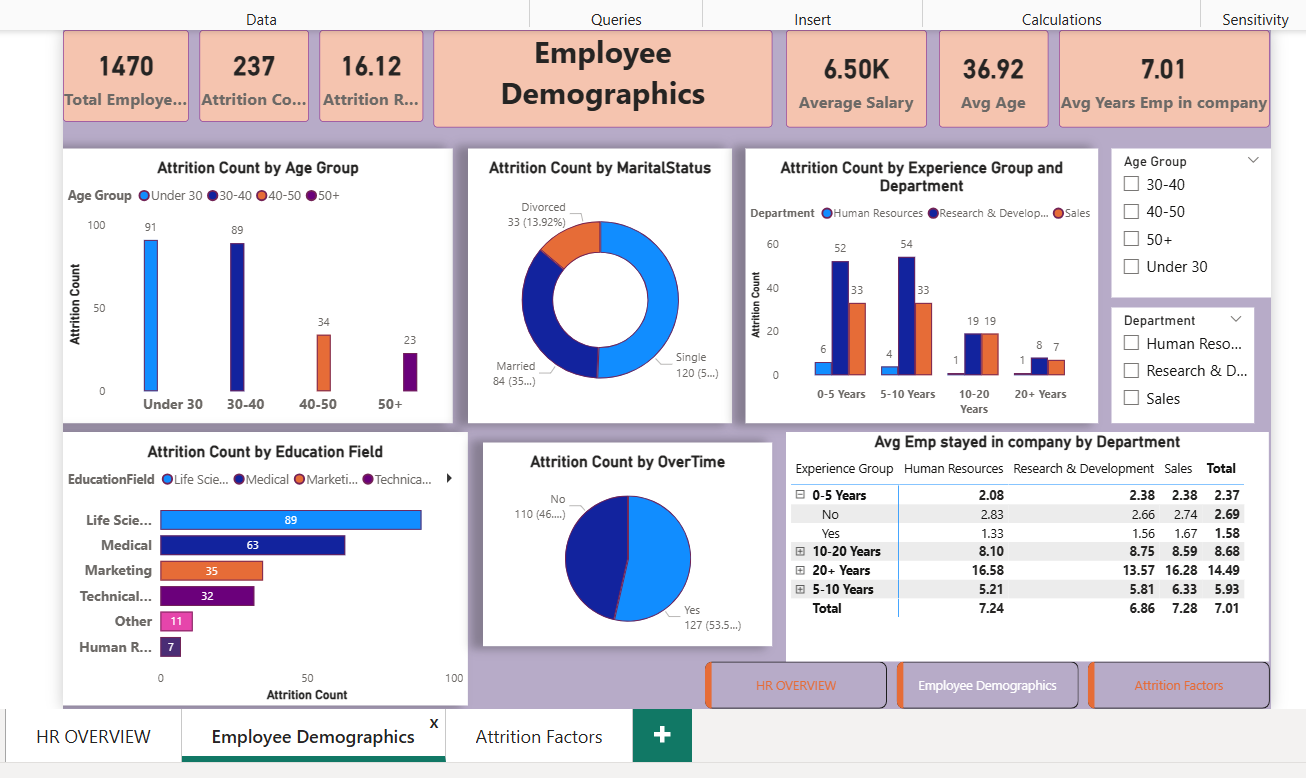

The page's visual inventory and layout, read from the dashboard file:
{"tool":"powerbi","page":{"name":"Employee Demographics","canvas":[1280,720],"ordinal":1},"visuals":[{"type":"textbox","box":[392.9,0,359.5,103.4],"z":0},{"type":"card","fields":{"Values":["Fact-Employee.Total Employees"]},"box":[0,0,133.6,97],"z":1000},{"type":"card","fields":{"Values":["Dim-Department.Attrition Count"]},"box":[144.7,0,116.1,97],"z":2000},{"type":"card","fields":{"Values":["Fact-Employee.Attrition Rate"]},"box":[272,0,109.8,97],"z":3000},{"type":"card","fields":{"Values":["Fact-Employee.Average Salary"]},"box":[766.7,0,149.5,103.4],"z":4000},{"type":"card","fields":{"Values":["Fact-Employee.Avg Years Emp in company"]},"box":[1055.7,0,223.5,103.6],"z":5000},{"type":"card","fields":{"Values":["Fact-Employee.Avg Age"]},"box":[928.9,0,116.1,103.4],"z":6000},{"type":"clusteredColumnChart","title":"Attrition Count by Age Group ","fields":{"Category":["Fact-Employee.Age Group"],"Y":["Dim-Department.Attrition Count"],"Series":["Fact-Employee.Age Group"]},"box":[0,125.7,413.6,291.1],"z":7000},{"type":"barChart","title":"Attrition Count by Education Field ","fields":{"Category":["Dim-Employee.EducationField"],"Y":["Dim-Department.Attrition Count"],"Series":["Dim-Employee.EducationField"]},"box":[0,426,429,290],"z":8000},{"type":"pieChart","fields":{"Category":["Dim-Department.OverTime"],"Y":["Dim-Department.Attrition Count"]},"box":[445.4,437.4,307,216.3],"z":9000},{"type":"donutChart","fields":{"Category":["Dim-Employee.MaritalStatus"],"Y":["Dim-Department.Attrition Count"]},"box":[429.5,125.7,279.9,291.1],"z":10000},{"type":"clusteredColumnChart","fields":{"Category":["Fact-Employee.Experience Group"],"Y":["Dim-Department.Attrition Count"],"Series":["Dim-Department.Department"]},"box":[723.7,125.7,373.8,291.1],"z":11000},{"type":"pageNavigator","box":[680.6,669.4,600,50],"z":12000},{"type":"slicer","fields":{"Values":["Fact-Employee.Age Group"]},"box":[1111.3,125.8,169.4,158.1],"z":13000},{"type":"pivotTable","title":" Avg Emp stayed in company by Department","fields":{"Rows":["Fact-Employee.Experience Group","Dim-Department.Attrition"],"Values":["Fact-Employee.Avg Years Emp in company"],"Columns":["Dim-Department.Department"]},"box":[766.7,426.3,512.2,243.4],"z":14000},{"type":"slicer","fields":{"Values":["Dim-Department.Department"]},"box":[1111.8,294.3,151.1,122.5],"z":15000}]}

Visuals, with their boxes on the page's 1280x720 design canvas (x1, y1, x2, y2). These are canvas units, not pixel positions in the 1306x778 screenshot, which may show the page scaled, cropped or inside an application window:
textbox: [left=393, top=0, right=752, bottom=103]
card - Fact-Employee.Total Employees: [left=0, top=0, right=134, bottom=97]
card - Dim-Department.Attrition Count: [left=145, top=0, right=261, bottom=97]
card - Fact-Employee.Attrition Rate: [left=272, top=0, right=382, bottom=97]
card - Fact-Employee.Average Salary: [left=767, top=0, right=916, bottom=103]
card - Fact-Employee.Avg Years Emp in company: [left=1056, top=0, right=1279, bottom=104]
card - Fact-Employee.Avg Age: [left=929, top=0, right=1045, bottom=103]
"Attrition Count by Age Group " clusteredColumnChart: [left=0, top=126, right=414, bottom=417]
"Attrition Count by Education Field " barChart: [left=0, top=426, right=429, bottom=716]
pieChart - Dim-Department.OverTime x Dim-Department.Attrition Count: [left=445, top=437, right=752, bottom=654]
donutChart - Dim-Employee.MaritalStatus x Dim-Department.Attrition Count: [left=430, top=126, right=709, bottom=417]
clusteredColumnChart - Fact-Employee.Experience Group x Dim-Department.Attrition Count: [left=724, top=126, right=1098, bottom=417]
pageNavigator: [left=681, top=669, right=1281, bottom=719]
slicer - Fact-Employee.Age Group: [left=1111, top=126, right=1281, bottom=284]
" Avg Emp stayed in company by Department" pivotTable: [left=767, top=426, right=1279, bottom=670]
slicer - Dim-Department.Department: [left=1112, top=294, right=1263, bottom=417]
